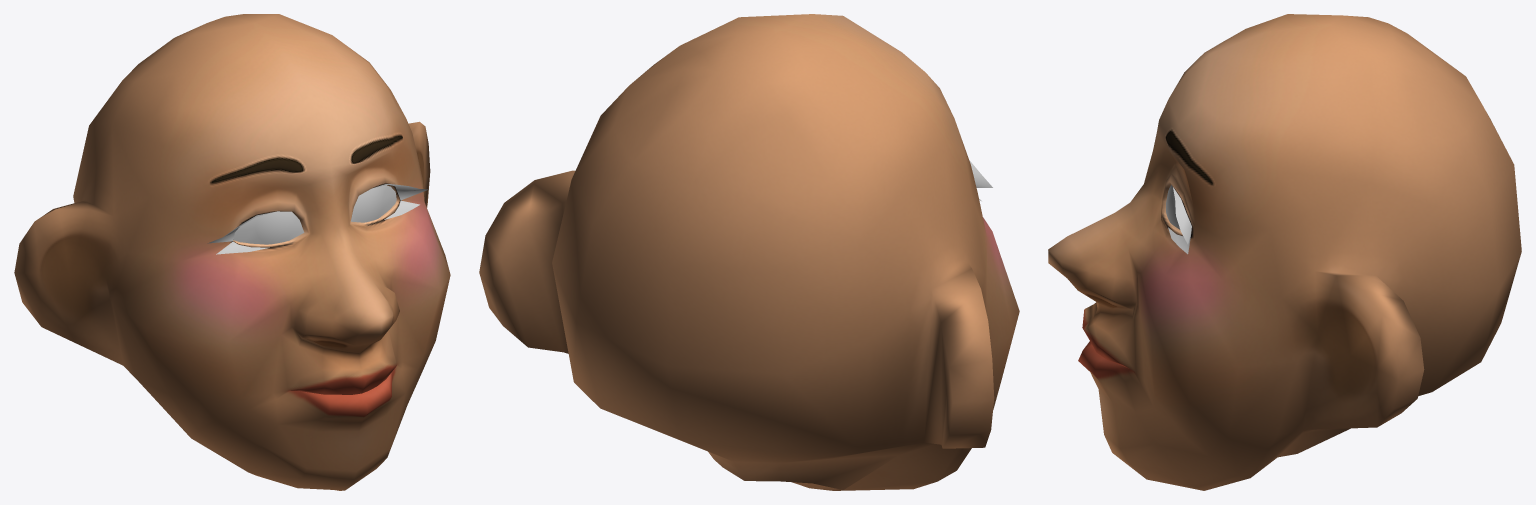
File: F_sitpose01.fbx
3 views of the same model, side by side, from view 1: azimuth 30°, elevation 25°; view 2: azimuth 150°, elevation 25°; view 3: azimuth 270°, elevation 25° (orthographic). The views are drawn at different scales.
Parts seen in each view (by area): view 1: HEAD; view 2: HEAD; view 3: HEAD.
Boxes of the visible parts, x1,y1,x2,y2 form: HEAD: (14,14,450,490); HEAD: (479,14,1019,490); HEAD: (1048,14,1521,490).
Bounding box in the file's own units: 27.45 × 25.53 × 24.63.
